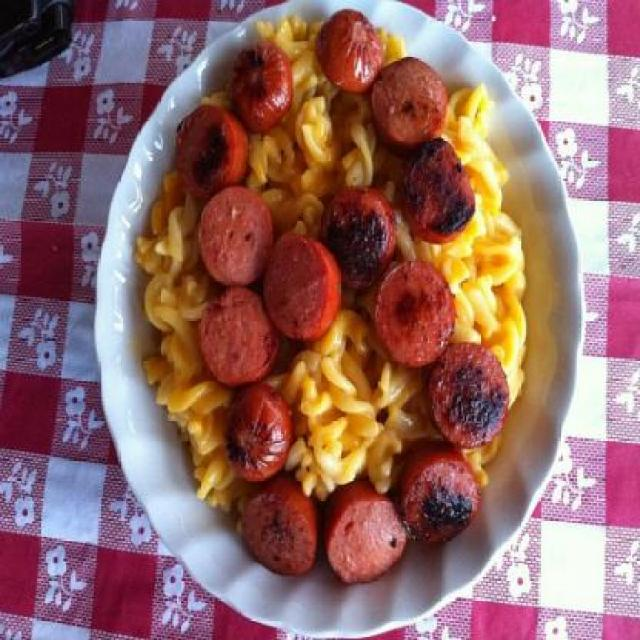hot dog: (180, 11, 494, 580)
macaroni and cheese: (130, 9, 528, 580)
